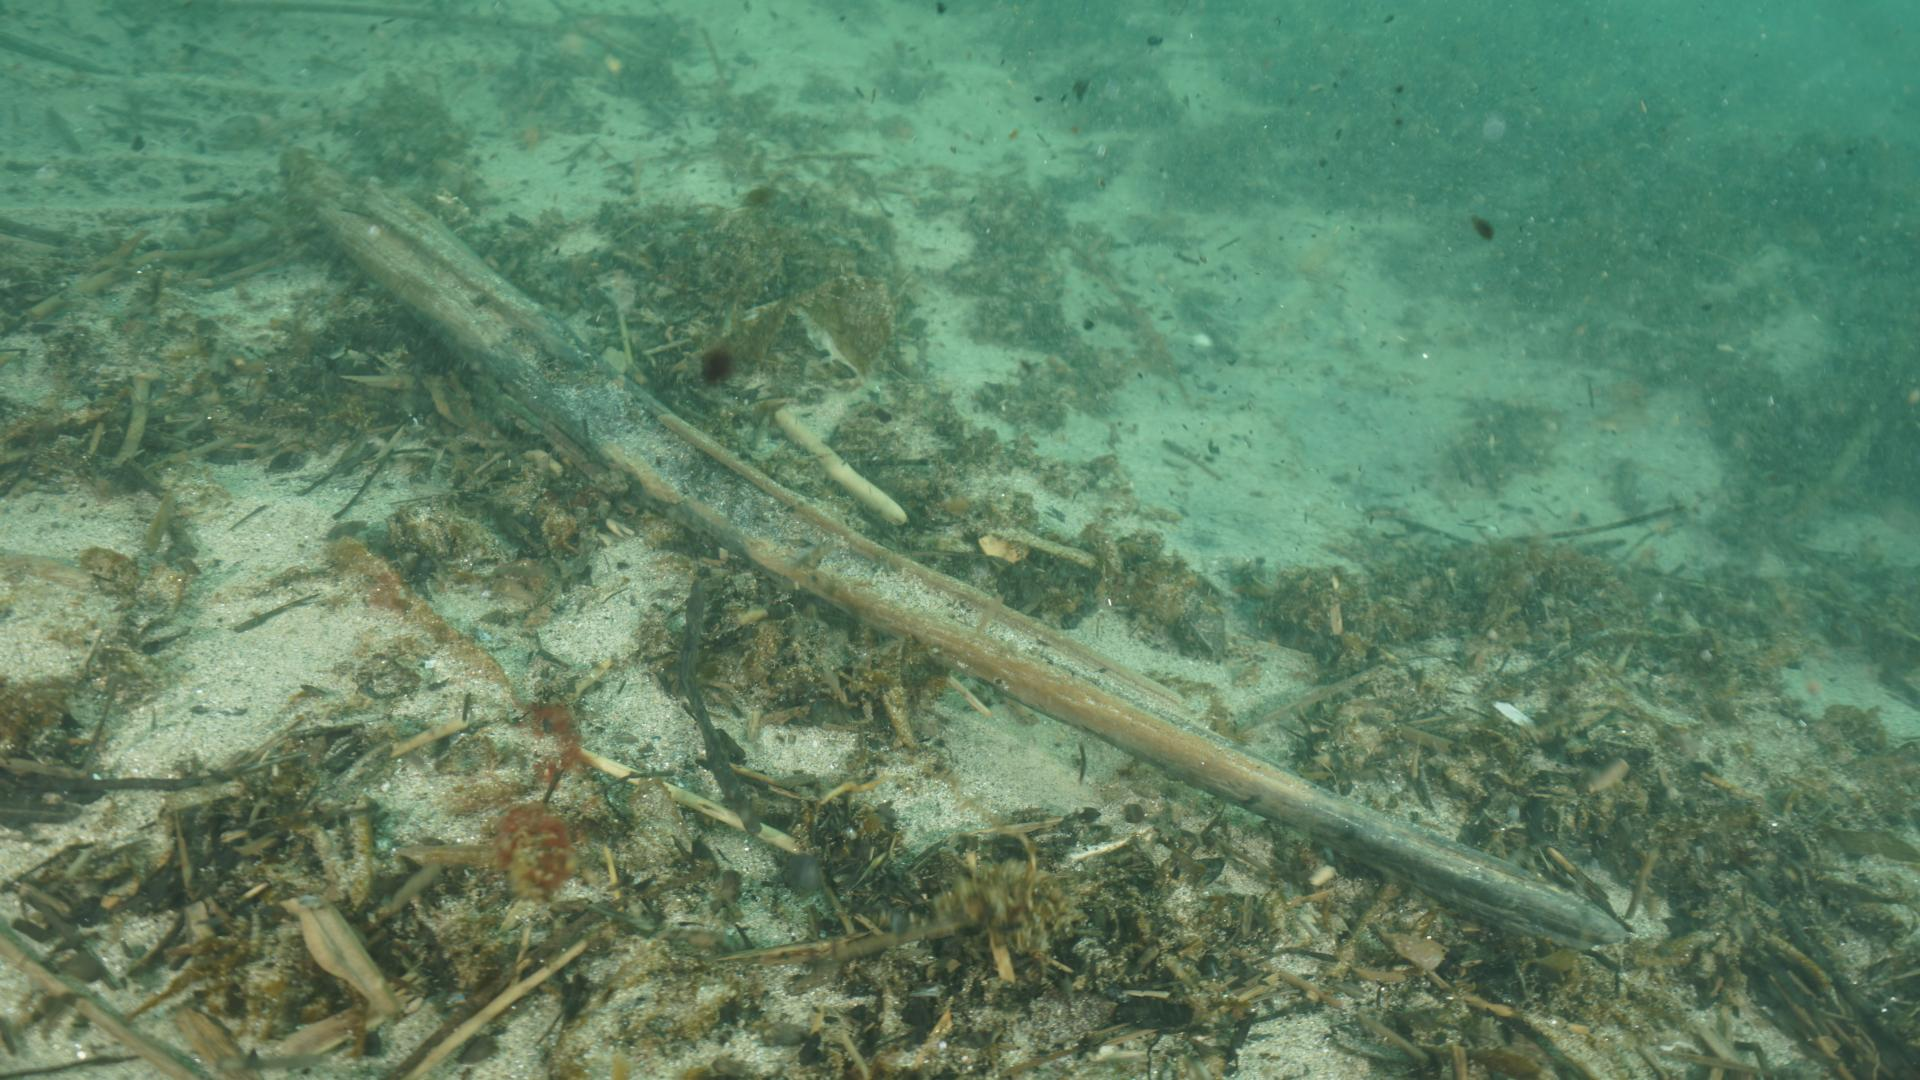wood: (276, 150, 1622, 949)
